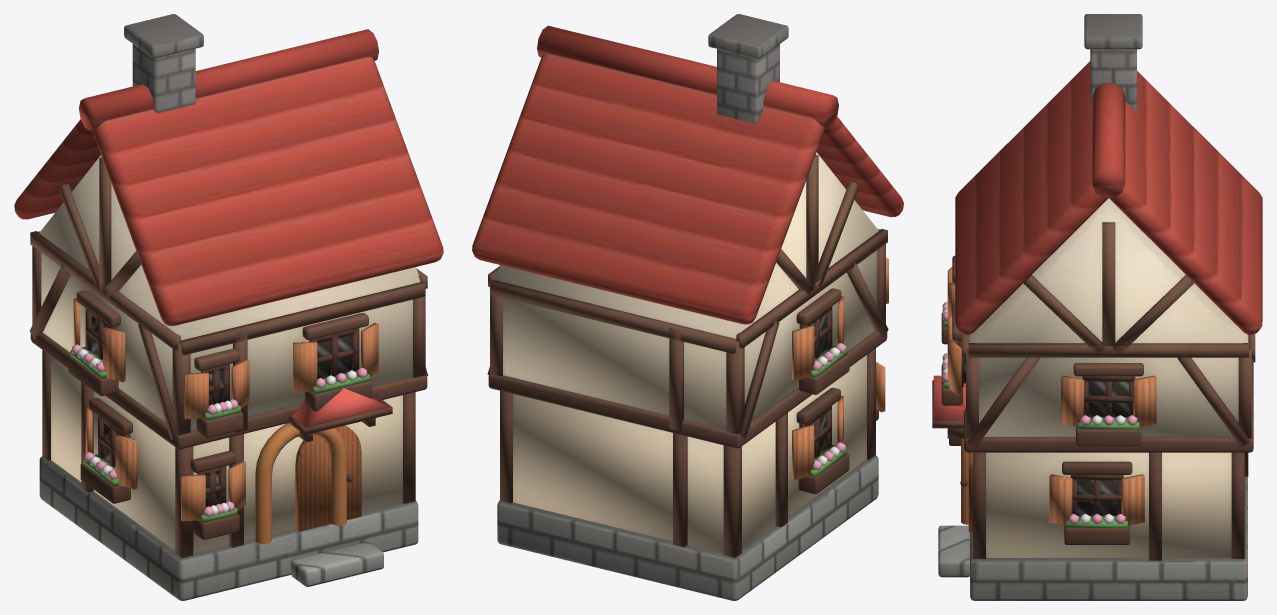
File: house_terra_6_high.glb
The picture shows the model from 3 angles, left to right: view 1: azimuth 30°, elevation 25°; view 2: azimuth 150°, elevation 25°; view 3: azimuth 270°, elevation 25°; orthographic projection. The views are drawn at different scales.
Parts seen in each view (by area): view 1: house_terra_6; view 2: house_terra_6; view 3: house_terra_6.
Boxes of the visible parts, box(x1,y1,x2,y2) form: house_terra_6: box(14, 14, 443, 600); house_terra_6: box(472, 14, 903, 600); house_terra_6: box(932, 14, 1262, 600).
Size of the model in its own units: 1.39 by 2.32 by 1.41.
1 material, 1 textured.
